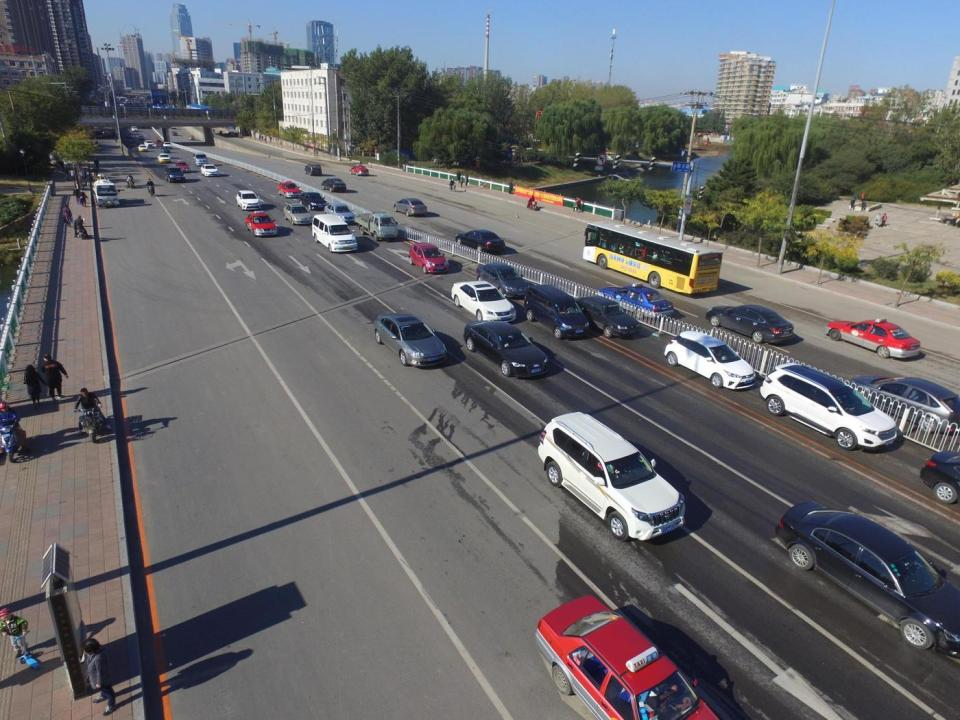bus: (584, 221, 724, 298)
car: (774, 496, 958, 661), (536, 596, 731, 720), (849, 365, 960, 433), (661, 319, 760, 393), (464, 318, 555, 379), (365, 312, 450, 372), (704, 299, 794, 346), (823, 316, 921, 359), (448, 278, 516, 326), (576, 292, 640, 341), (604, 283, 678, 318), (474, 260, 531, 303), (453, 228, 506, 254), (407, 243, 451, 274), (245, 211, 278, 237), (394, 196, 430, 219), (282, 202, 316, 226), (324, 203, 358, 223), (236, 189, 263, 211), (299, 192, 328, 212), (276, 180, 304, 199), (320, 175, 348, 194), (457, 156, 487, 166), (201, 163, 220, 178), (350, 164, 371, 177), (433, 155, 455, 167), (304, 163, 323, 176), (175, 159, 191, 174), (156, 152, 172, 163), (162, 140, 173, 150), (160, 145, 172, 153), (144, 140, 154, 148), (130, 124, 139, 132), (128, 139, 137, 147), (138, 144, 147, 152), (152, 140, 161, 147), (156, 139, 163, 147), (156, 122, 163, 130), (138, 133, 145, 140), (228, 131, 236, 137), (125, 132, 132, 138), (172, 130, 178, 137), (141, 123, 148, 129), (189, 134, 194, 141), (170, 125, 176, 130)
truck: (354, 212, 398, 242), (91, 176, 122, 207)
van: (535, 409, 688, 546), (756, 359, 903, 453), (525, 284, 596, 338), (310, 214, 359, 253), (164, 164, 186, 182), (193, 152, 210, 167)
